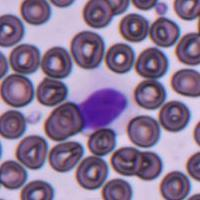L: (77, 82, 130, 132)
